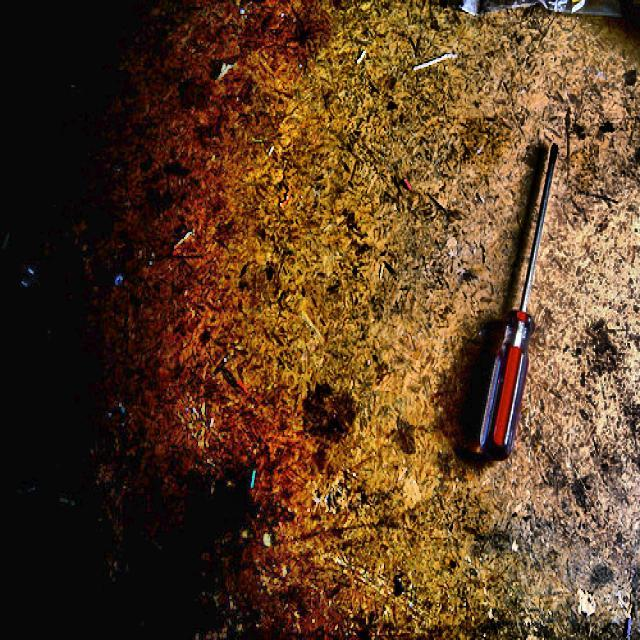screwdriver: (473, 144, 560, 457)
